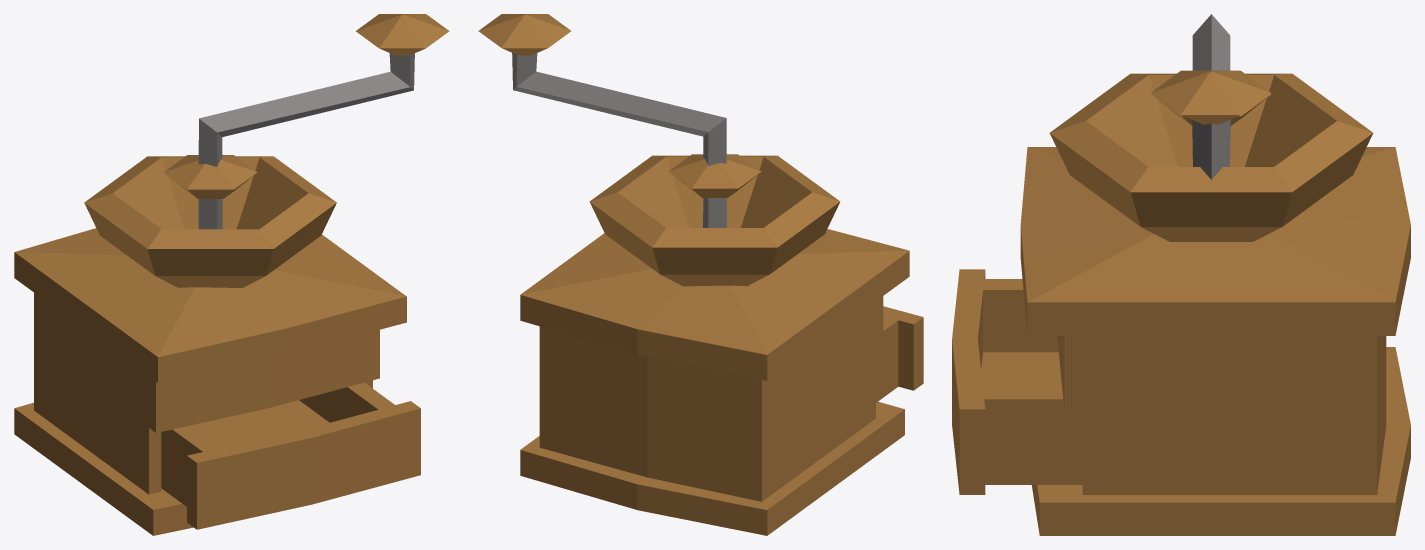
File: quern.glb
3 views of the same model, side by side, from view 1: azimuth 30°, elevation 25°; view 2: azimuth 150°, elevation 25°; view 3: azimuth 270°, elevation 25° (orthographic). The views are drawn at different scales.
Parts seen in each view (by area): view 1: quern; view 2: quern; view 3: quern.
Boxes of the visible parts, x1,y1,x2,y2 form: quern: (14,14,449,535); quern: (478,14,923,535); quern: (952,14,1410,535).
Bounding box in the file's own units: 0.2712 × 0.2917 × 0.2394.
1 material, 1 textured.
